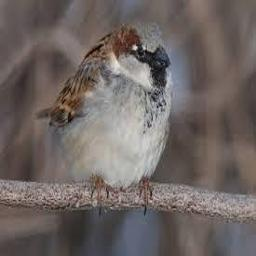Sparrow: (33, 20, 173, 216)
